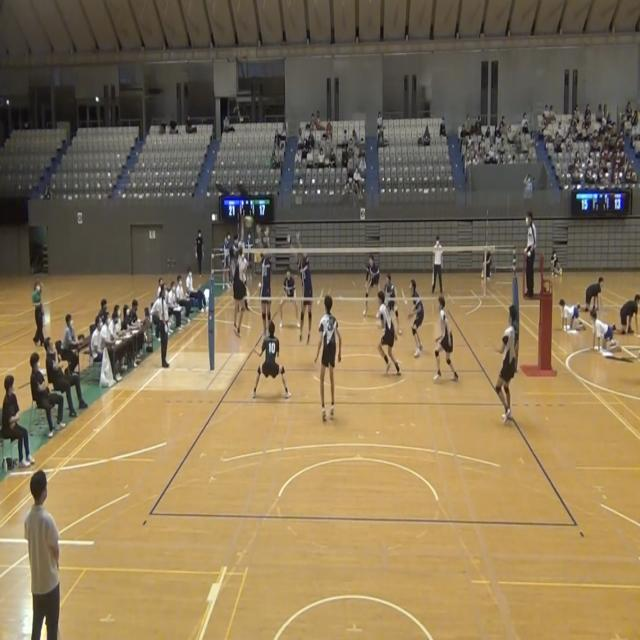spike: (228, 205, 256, 342)
